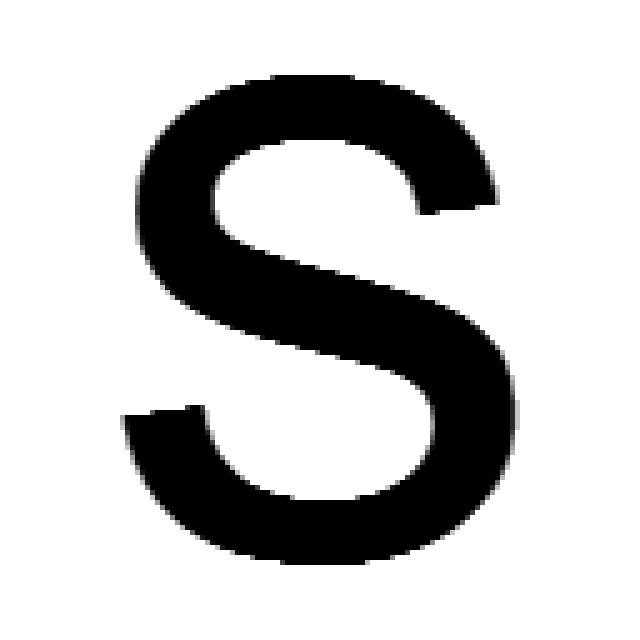S: (110, 60, 525, 570)
